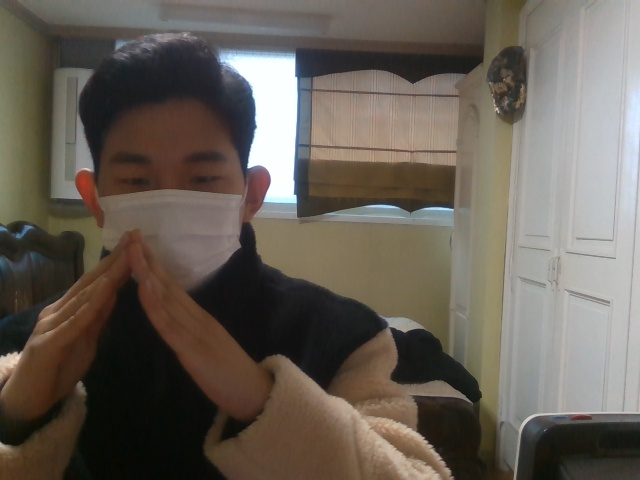HOME: (1, 227, 268, 418)
